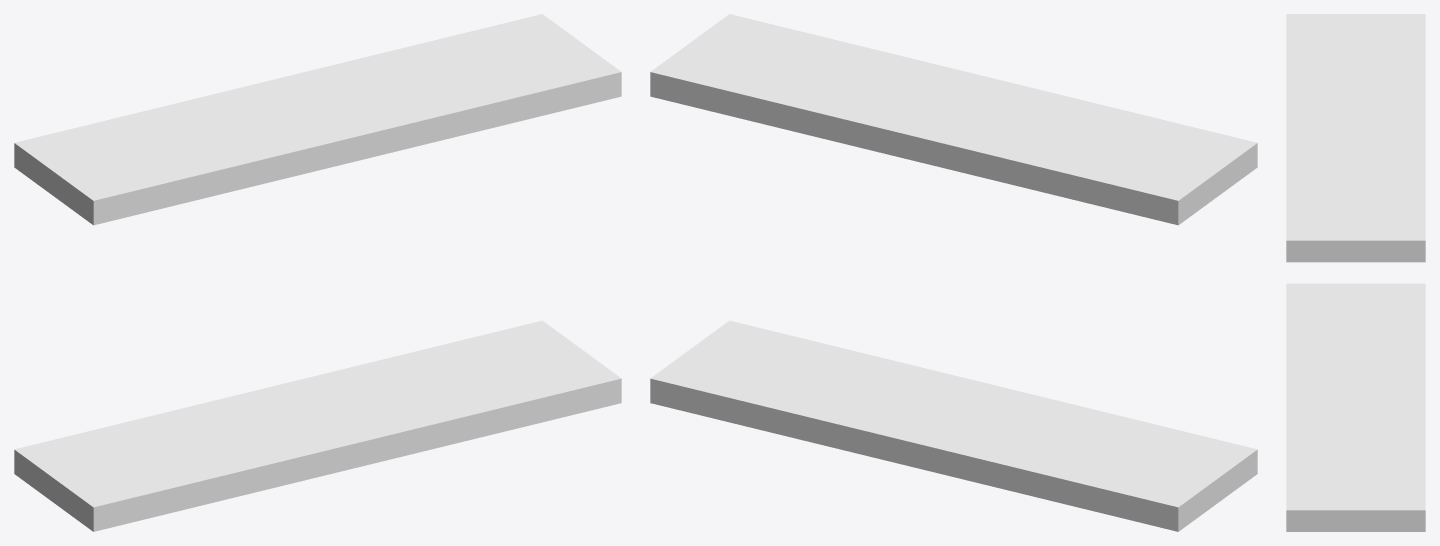
File: polc-2_als_sima_15cm.glb
The picture shows the model from 3 angles, left to right: view 1: azimuth 30°, elevation 25°; view 2: azimuth 150°, elevation 25°; view 3: azimuth 270°, elevation 25°; orthographic projection. The views are drawn at different scales.
Parts seen in each view (by area): view 1: shelf_bottom-2_standard_15; view 2: shelf_bottom-2_standard_15; view 3: shelf_bottom-2_standard_15.
Boxes of the visible parts, x1,y1,x2,y2 form: shelf_bottom-2_standard_15: [14, 14, 621, 531]; shelf_bottom-2_standard_15: [650, 14, 1257, 531]; shelf_bottom-2_standard_15: [1286, 14, 1425, 531].
Size of the model in its own units: 0.4279 by 0.2563 by 0.1112.
1 material, 1 textured.
